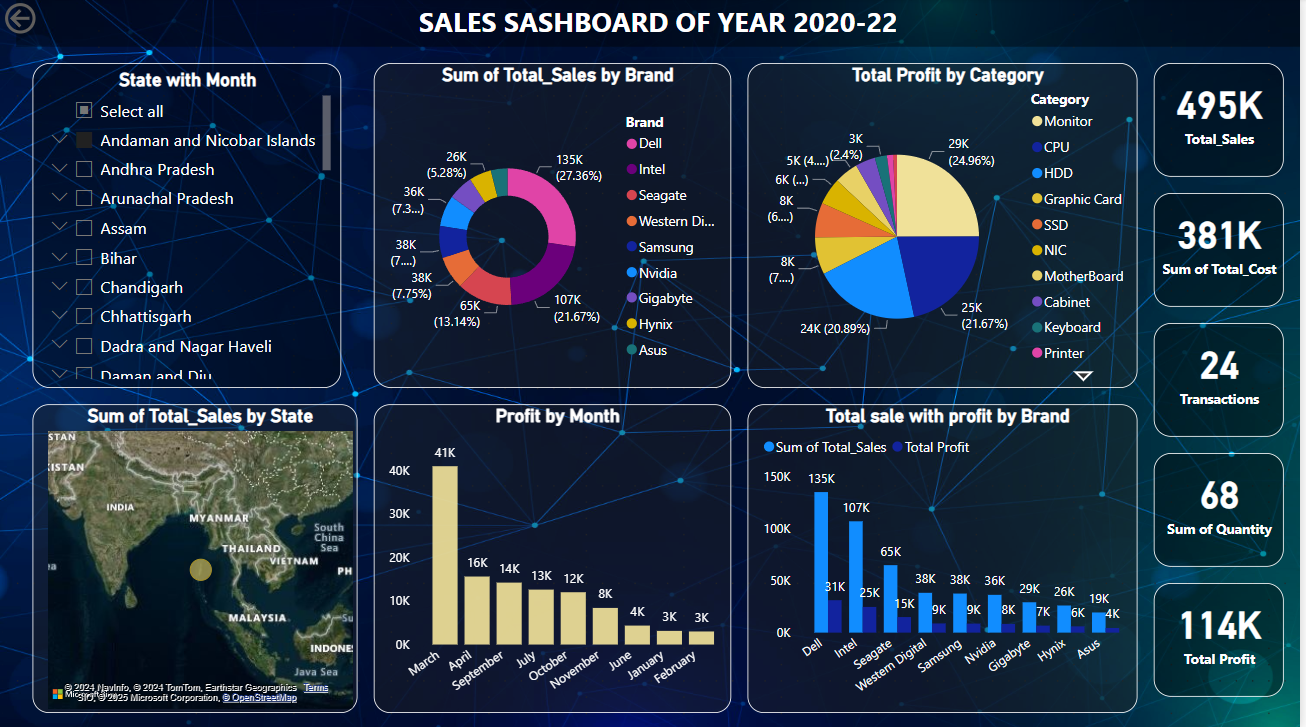

The dashboard page shown, as its layout file describes it:
{"tool":"powerbi","page":{"name":"Page 1","canvas":[1280,720],"ordinal":0},"visuals":[{"type":"textbox","box":[16,0,1264,48],"z":0},{"type":"card","fields":{"Values":["Sum(Sales_Data.Total_Sales)"]},"box":[1136,64,128,112],"z":1000},{"type":"card","fields":{"Values":["Sum(Sales_Data.Total_Cost)"]},"box":[1136,192,128,112],"z":2000},{"type":"card","fields":{"Values":["CountNonNull(Sales_Data.Order_Number)"]},"box":[1136,320,128,112],"z":3000},{"type":"card","fields":{"Values":["Sum(Sales_Data.Quantity)"]},"box":[1136,448,128,112],"z":4000},{"type":"card","fields":{"Values":["Sales_Data.Total Profit"]},"box":[1136,576,128,112],"z":5000},{"type":"clusteredColumnChart","title":"Total sale with profit by Brand","fields":{"Y":["Sum(Sales_Data.Total_Sales)","Sales_Data.Total Profit"],"Category":["Sales_Data.Brand"]},"box":[736,400,384,304],"z":6000},{"type":"pieChart","fields":{"Category":["Sales_Data.Category"],"Y":["Sales_Data.Total Profit"]},"box":[736,64,384,320],"z":7000},{"type":"map","fields":{"Category":["State_list.State"],"Size":["Sum(Sales_Data.Total_Sales)"]},"box":[32,400,320,304],"z":8000},{"type":"donutChart","fields":{"Category":["Sales_Data.Brand"],"Y":["Sum(Sales_Data.Total_Sales)"]},"box":[368,64,352,320],"z":9000},{"type":"clusteredColumnChart","title":"Profit by Month","fields":{"Category":["Sales_Data.Month"],"Y":["Sales_Data.Total Profit"]},"box":[368,400,352,304],"z":10000},{"type":"actionButton","box":[0,0,100,40],"z":11000},{"type":"slicer","title":"State with Month","fields":{"Values":["State_list.State","Sales_Data.Month"]},"box":[32,64,304,320],"z":12000}]}

Visuals, with their boxes in screenshot pixels (x1, y1, x2, y2), scaled from the page's 1280x720 canvas onto the 1306x727 screenshot:
textbox: 16, 0, 1305, 48
card - Sum(Sales_Data.Total_Sales): 1159, 65, 1290, 178
card - Sum(Sales_Data.Total_Cost): 1159, 194, 1290, 307
card - CountNonNull(Sales_Data.Order_Number): 1159, 323, 1290, 436
card - Sum(Sales_Data.Quantity): 1159, 452, 1290, 565
card - Sales_Data.Total Profit: 1159, 582, 1290, 695
"Total sale with profit by Brand" clusteredColumnChart: 751, 404, 1143, 711
pieChart - Sales_Data.Category x Sales_Data.Total Profit: 751, 65, 1143, 388
map - State_list.State x Sum(Sales_Data.Total_Sales): 33, 404, 359, 711
donutChart - Sales_Data.Brand x Sum(Sales_Data.Total_Sales): 375, 65, 735, 388
"Profit by Month" clusteredColumnChart: 375, 404, 735, 711
actionButton: 0, 0, 102, 40
"State with Month" slicer: 33, 65, 343, 388
